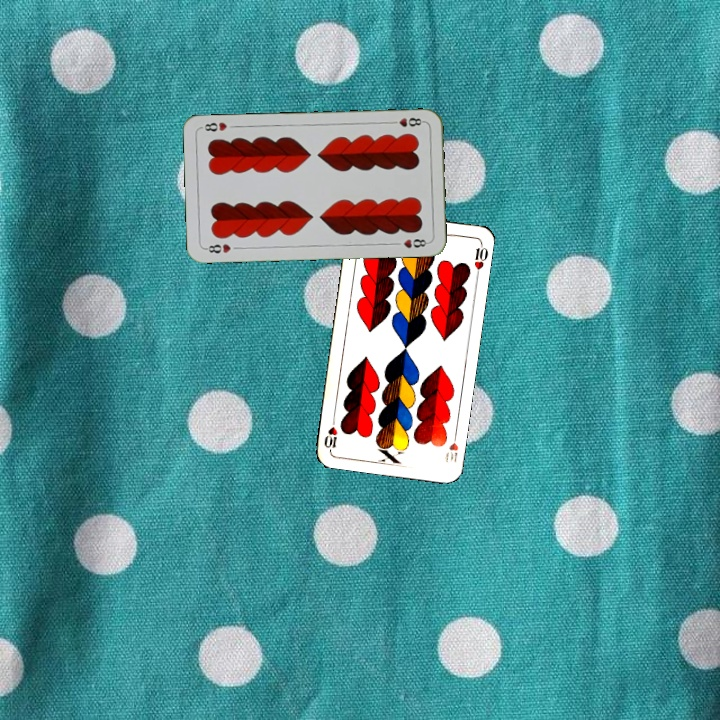H10: (440, 428, 461, 465)
H8: (386, 114, 427, 129), (201, 240, 233, 256)
